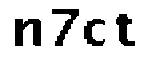7: (49, 5, 78, 51)
c: (82, 17, 106, 49)
n: (12, 16, 42, 48)
t: (114, 11, 138, 52)
